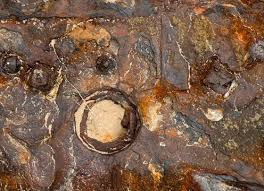rust: (1, 1, 264, 190)
